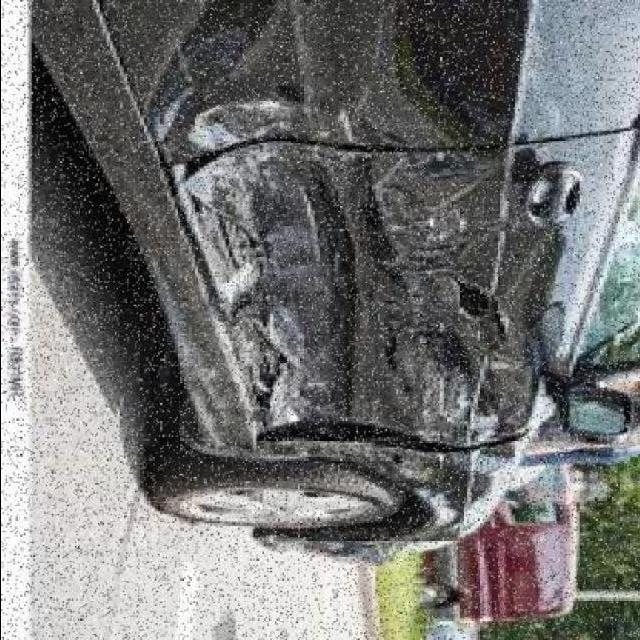RunningBoard-Dent: (170, 291, 248, 467)
doorouter-dent: (242, 145, 572, 452), (156, 0, 623, 143)
